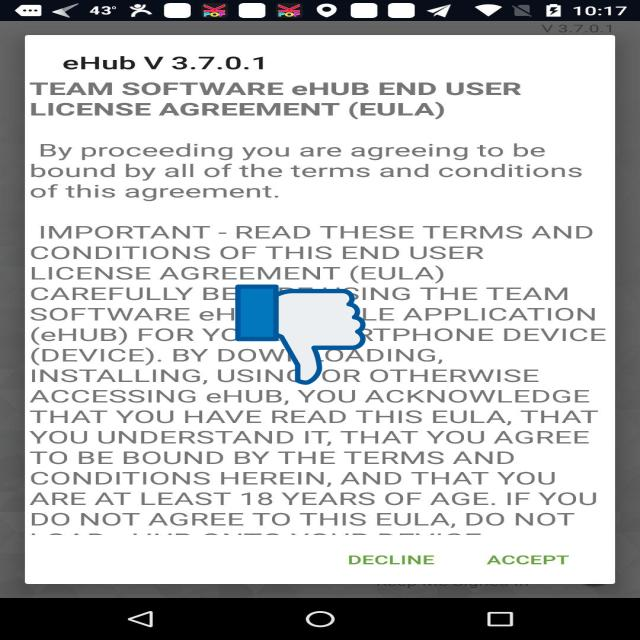obstruction: (235, 282, 366, 387)
